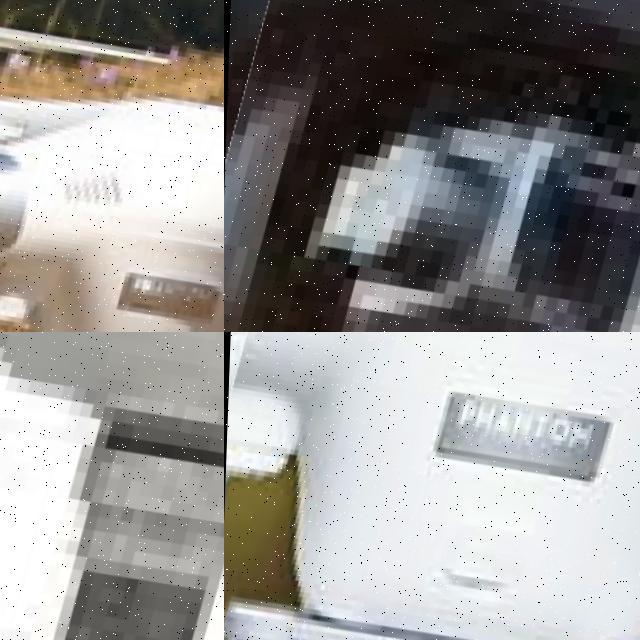drone: (224, 0, 640, 332), (224, 332, 640, 640), (0, 0, 224, 332), (0, 332, 224, 640)
